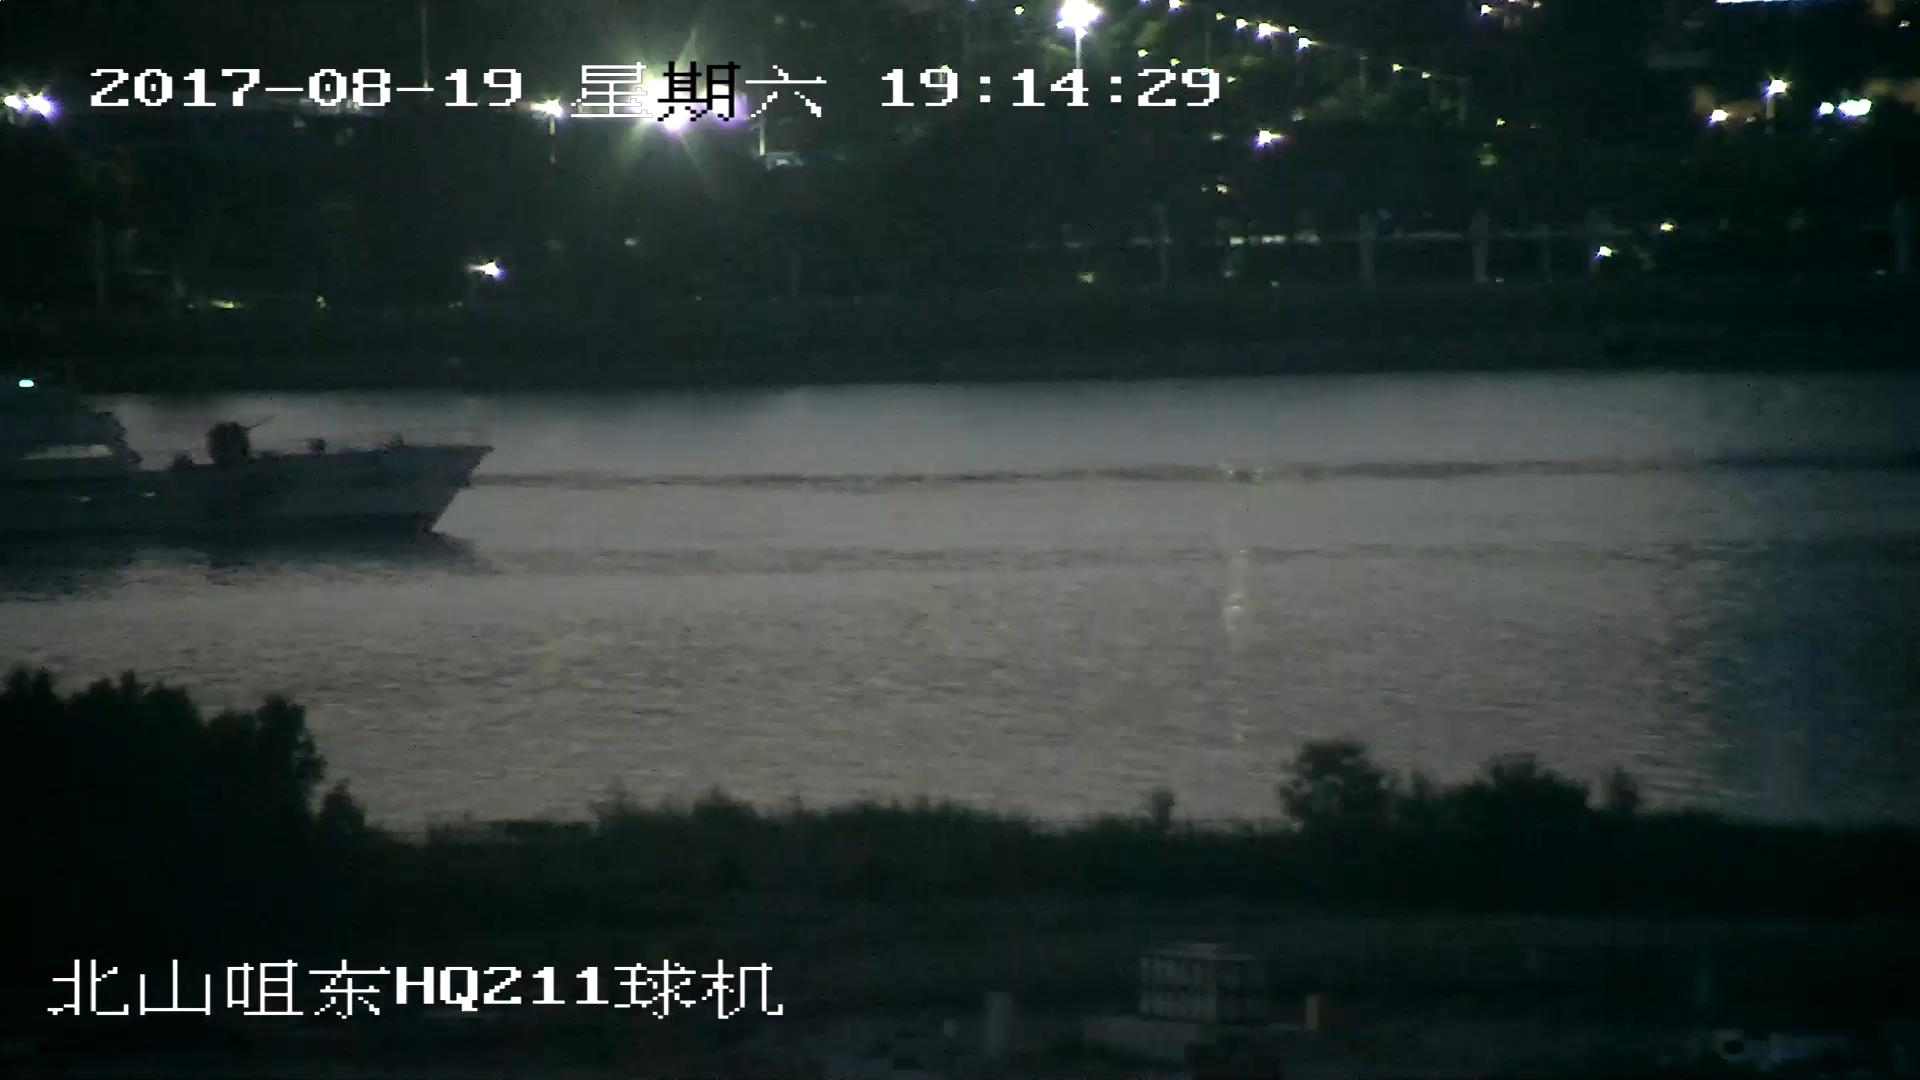passenger ship: (1, 374, 502, 546)
